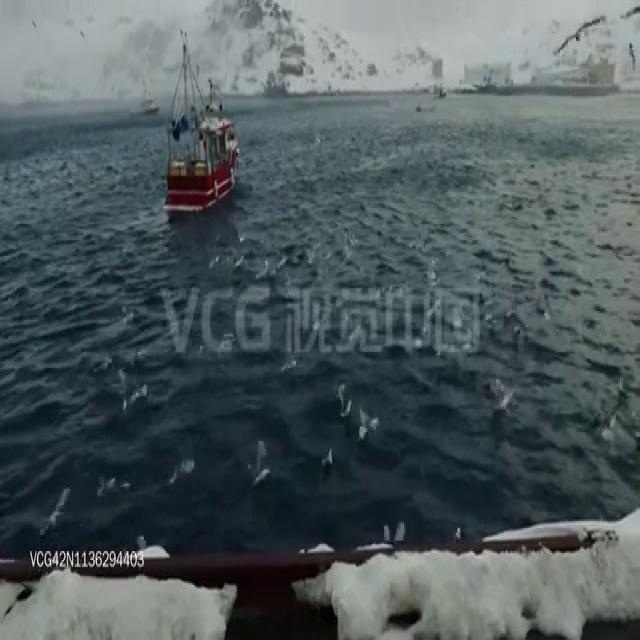fishing boat: (160, 29, 240, 209)
